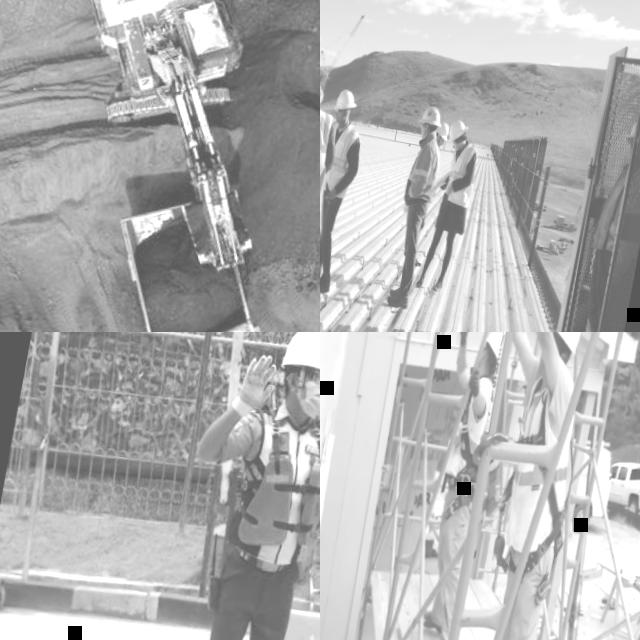Hardhat: (279, 332, 320, 375), (543, 332, 585, 355), (418, 103, 445, 131), (334, 88, 359, 115), (445, 116, 469, 144), (624, 112, 640, 147), (483, 332, 503, 356), (434, 119, 451, 144), (320, 79, 325, 104)
Mask: (282, 375, 320, 415)
NO-Mask: (335, 114, 347, 127), (454, 144, 462, 153), (420, 128, 427, 138), (437, 139, 444, 148)
Person: (398, 332, 626, 640), (130, 332, 320, 640), (398, 332, 507, 640), (562, 107, 640, 332), (384, 104, 449, 308), (416, 116, 484, 294), (320, 86, 371, 297), (320, 79, 352, 299), (412, 122, 451, 268)
Safety Vest: (501, 372, 593, 558), (230, 411, 320, 566), (441, 372, 495, 489), (587, 154, 640, 260), (402, 129, 445, 213), (320, 120, 362, 198), (443, 144, 479, 208), (320, 107, 339, 162)
vehicle: (32, 0, 320, 284), (83, 180, 293, 332), (552, 435, 619, 537), (603, 458, 640, 520)
